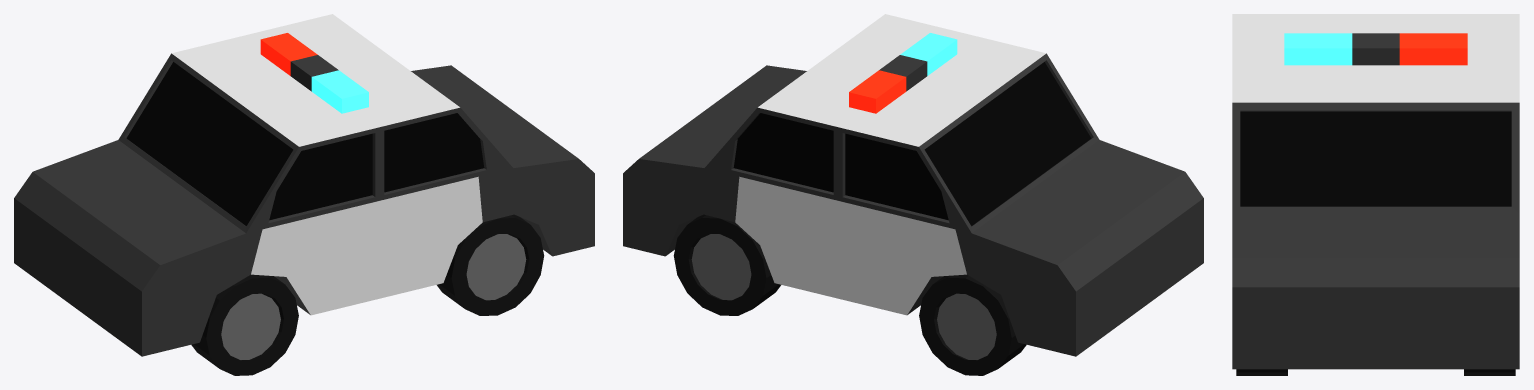
File: PoliceCar.glb
The picture shows the model from 3 angles, left to right: view 1: azimuth 30°, elevation 25°; view 2: azimuth 150°, elevation 25°; view 3: azimuth 270°, elevation 25°; orthographic projection. The views are drawn at different scales.
Visible parts, largest first — view 1: Police, PoliceWheels, PoliceBlueLight, PoliceRedLight; view 2: Police, PoliceWheels, PoliceRedLight, PoliceBlueLight; view 3: Police, PoliceWheels, PoliceBlueLight, PoliceRedLight.
Boxes of the visible parts, x1=… form: Police: x1=14, y1=14, x2=594, y2=356; PoliceWheels: x1=126, y1=62, x2=544, y2=375; PoliceBlueLight: x1=311, y1=70, x2=368, y2=113; PoliceRedLight: x1=260, y1=33, x2=317, y2=75; Police: x1=623, y1=14, x2=1203, y2=356; PoliceWheels: x1=673, y1=62, x2=1091, y2=375; PoliceRedLight: x1=849, y1=70, x2=906, y2=113; PoliceBlueLight: x1=900, y1=33, x2=957, y2=75; Police: x1=1232, y1=14, x2=1519, y2=369; PoliceWheels: x1=1236, y1=111, x2=1515, y2=375; PoliceBlueLight: x1=1284, y1=33, x2=1352, y2=65; PoliceRedLight: x1=1399, y1=33, x2=1467, y2=65.
Size of the model in its own units: 5.27 by 2.6 by 2.57.
3 materials, 3 textured.
